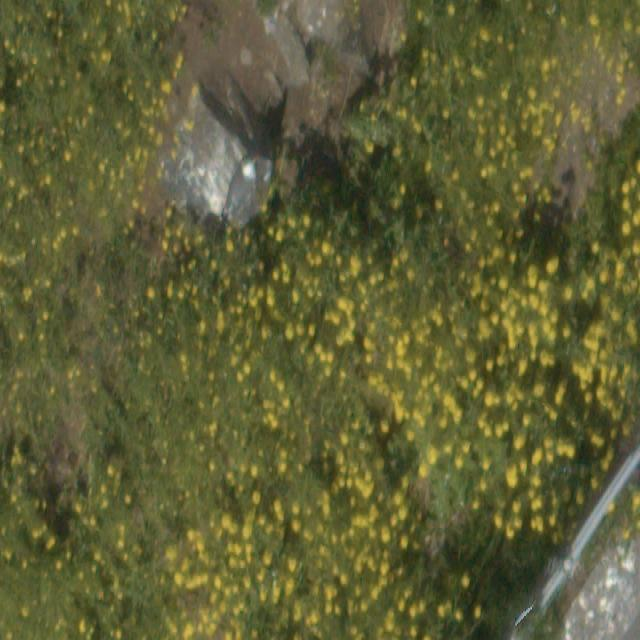umineko: (224, 162, 255, 218)
